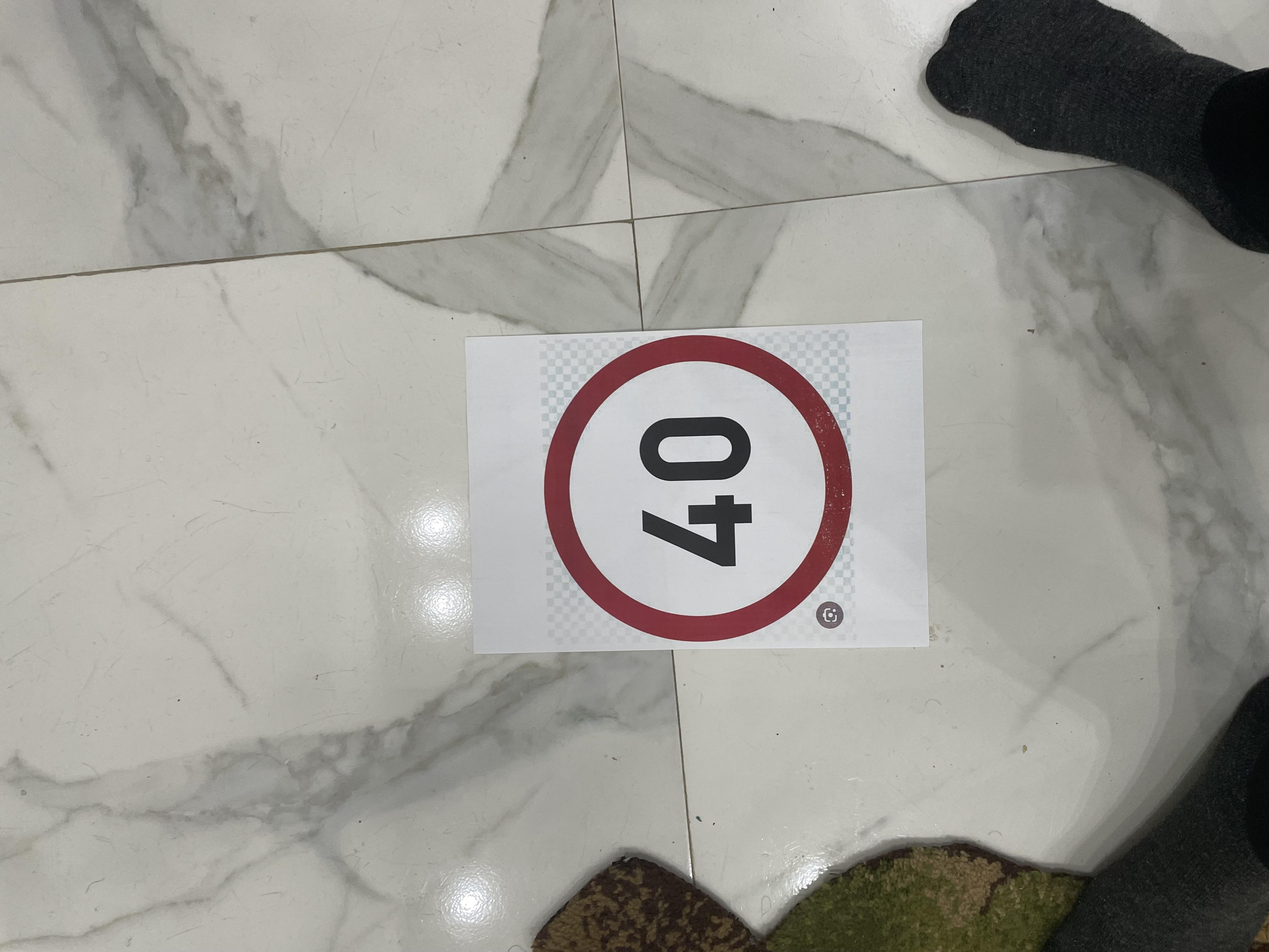40-Speed: (379, 400, 865, 645)
